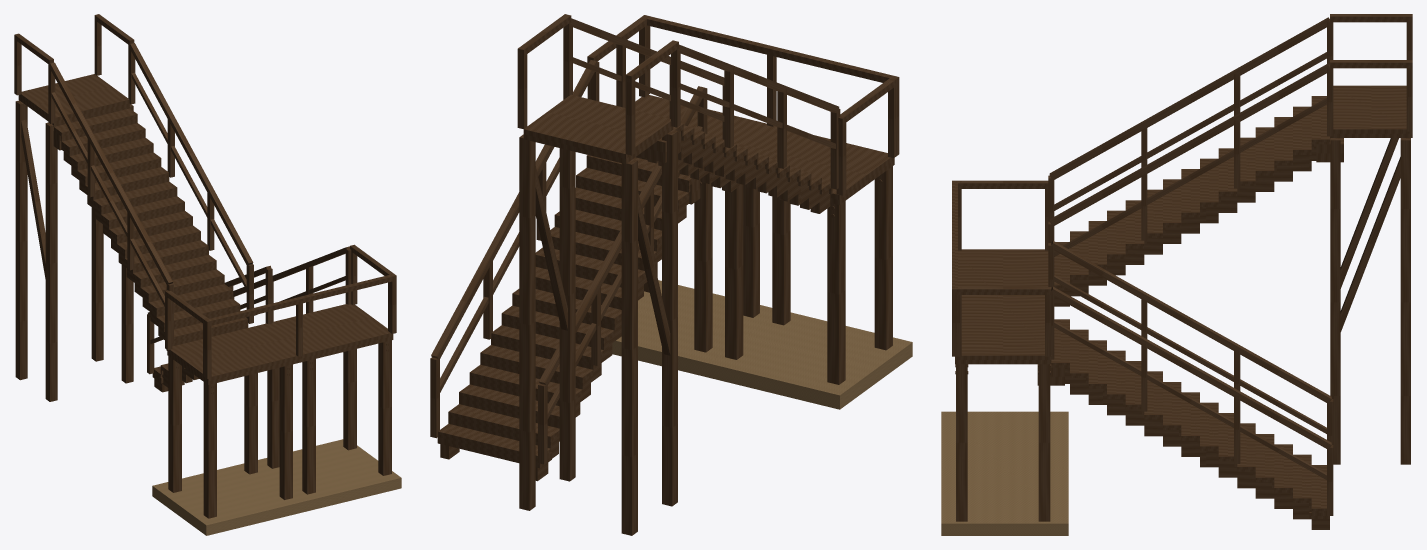
File: yong-upper-access-C-LOD0.glb
3 renders of one model, left to right at view 1: azimuth 30°, elevation 25°; view 2: azimuth 150°, elevation 25°; view 3: azimuth 270°, elevation 25°, orthographic. The views are drawn at different scales.
Parts seen in each view (by area): view 1: yong-upper-access-C-timber-access-C, yong-upper-access-C-earth-access-C; view 2: yong-upper-access-C-timber-access-C, yong-upper-access-C-earth-access-C; view 3: yong-upper-access-C-timber-access-C, yong-upper-access-C-earth-access-C.
Boxes of the visible parts, left/top/right/bottom form: yong-upper-access-C-timber-access-C: left=14, top=14, right=396, bottom=518; yong-upper-access-C-earth-access-C: left=152, top=439, right=401, bottom=535; yong-upper-access-C-timber-access-C: left=430, top=14, right=899, bottom=535; yong-upper-access-C-earth-access-C: left=612, top=280, right=912, bottom=409; yong-upper-access-C-timber-access-C: left=952, top=14, right=1412, bottom=529; yong-upper-access-C-earth-access-C: left=941, top=411, right=1068, bottom=535.
Bounding box in the file's own units: 3.85 × 6.65 × 6.85.
2 materials, 2 textured.
